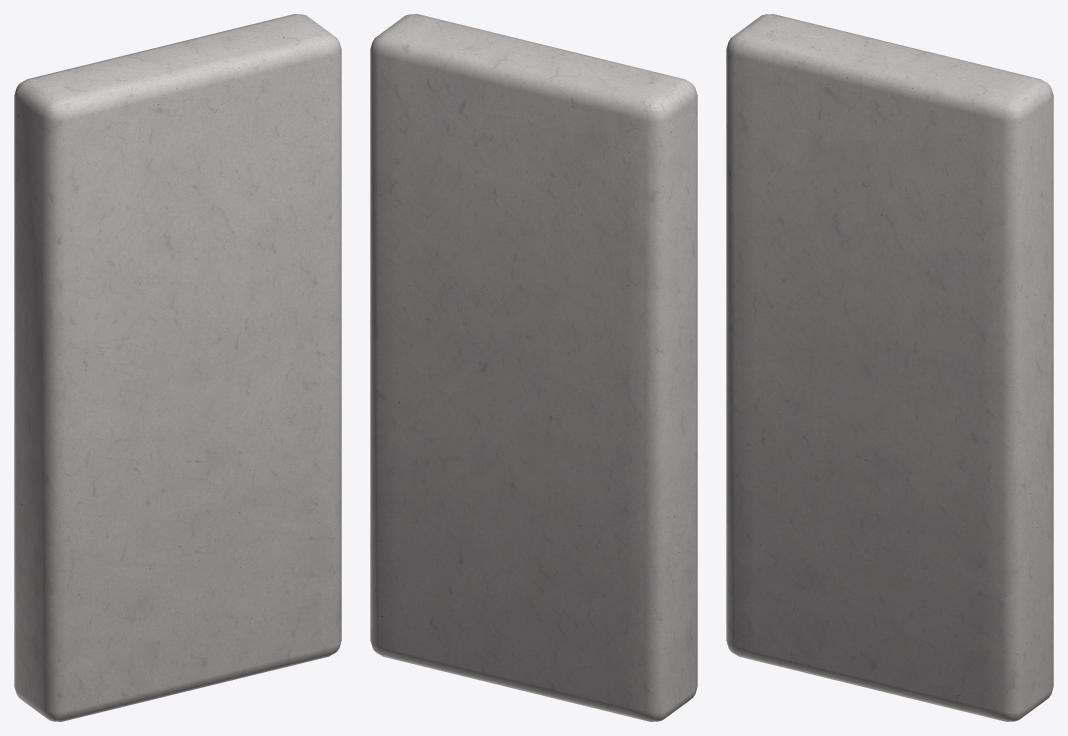
Rendered from domino.glb.
3 views of the same model, side by side, from view 1: azimuth 30°, elevation 25°; view 2: azimuth 150°, elevation 25°; view 3: azimuth 330°, elevation 25° (orthographic).
Parts seen in each view (by area): view 1: Cube; view 2: Cube; view 3: Cube.
Boxes of the visible parts, x1,y1,x2,y2 form: Cube: (14,14,341,721); Cube: (370,14,697,721); Cube: (726,14,1053,721).
Bounding box in the file's own units: 1 × 2 × 0.25.
1 material, 1 textured.
